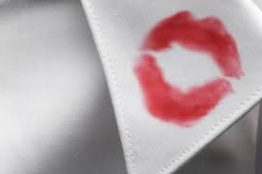lipstick: (133, 15, 250, 121), (144, 13, 238, 48), (182, 78, 232, 115), (151, 87, 201, 121), (213, 43, 249, 76), (133, 64, 166, 90)
